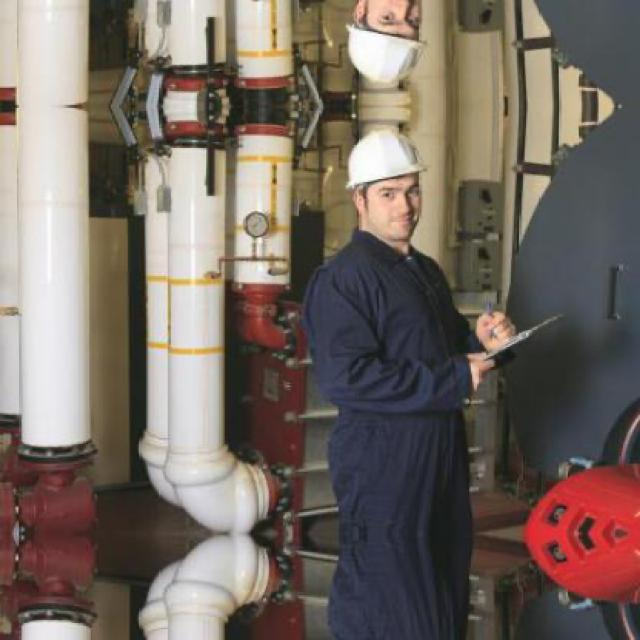helmet: (337, 117, 432, 248), (336, 0, 432, 97)
